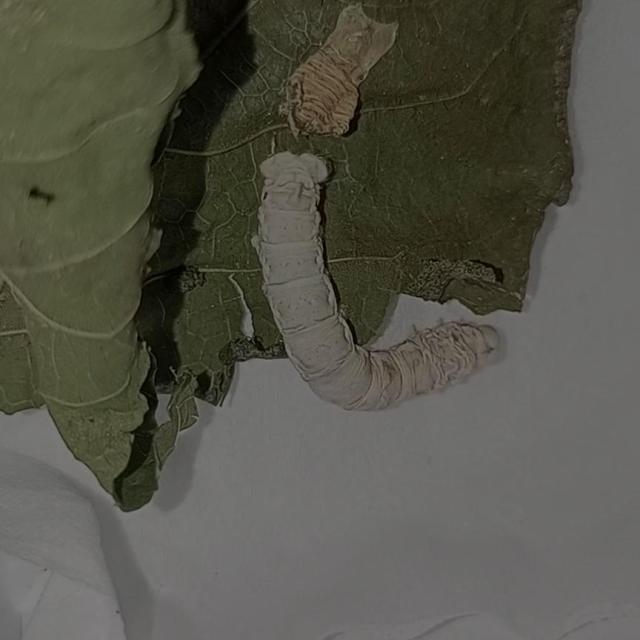Healthy: (209, 138, 519, 449)
